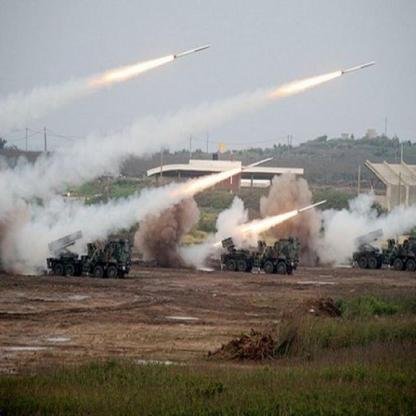MIL_TBM: (172, 42, 212, 62), (238, 157, 274, 173), (296, 198, 327, 213), (340, 62, 376, 73)
